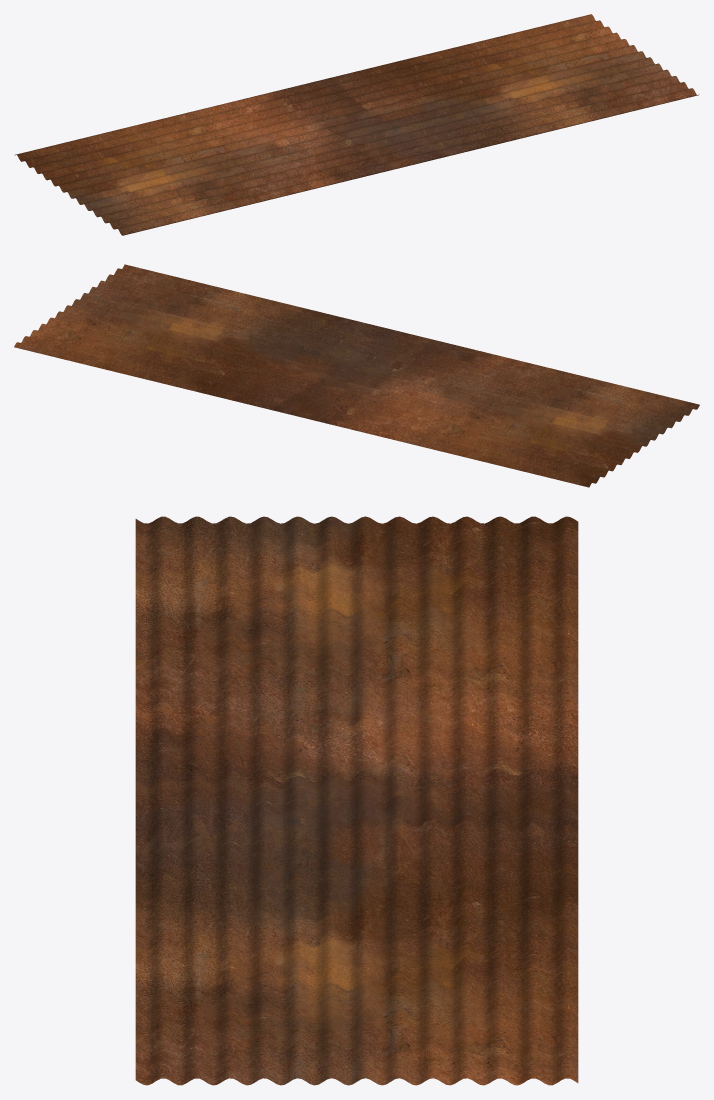
File: oluklu_sac_pasli_3x1m.gltf
3 renders of one model, top to bottom at view 1: azimuth 30°, elevation 25°; view 2: azimuth 150°, elevation 25°; view 3: azimuth 270°, elevation 25°, orthographic. The views are drawn at different scales.
Visible parts, largest first — view 1: oluklu_sac_pasli_3x1m; view 2: oluklu_sac_pasli_3x1m; view 3: oluklu_sac_pasli_3x1m.
Part boxes in pixels (bbox=[...]): oluklu_sac_pasli_3x1m: bbox=[14, 14, 699, 235]; oluklu_sac_pasli_3x1m: bbox=[14, 264, 699, 487]; oluklu_sac_pasli_3x1m: bbox=[135, 516, 578, 1085].
Size of what is drawn, in the model's own units: 3 by 0.0188 by 1.
1 material, 1 textured.
